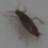cockroach: (14, 8, 40, 37)
